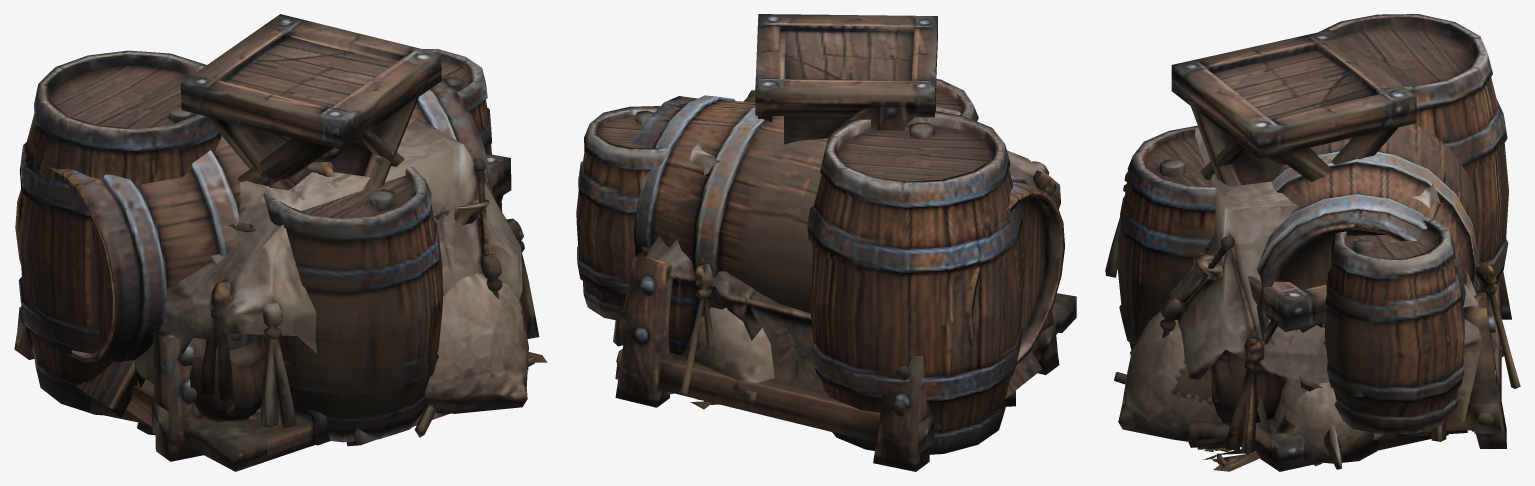
The model's file is kit-camp-storage.glb.
3 views of the same model, side by side, from view 1: azimuth 30°, elevation 25°; view 2: azimuth 150°, elevation 25°; view 3: azimuth 270°, elevation 25° (orthographic). The views are drawn at different scales.
Visible parts, largest first — view 1: storage_03_barrels, storage_07_tarp_pile, storage_01_crate_stack, storage_02_barrel_cradle, storage_05_sacks, storage_04_spilled_crate; view 2: storage_03_barrels, storage_02_barrel_cradle, storage_01_crate_stack, storage_07_tarp_pile, storage_05_sacks, storage_04_spilled_crate; view 3: storage_03_barrels, storage_01_crate_stack, storage_07_tarp_pile, storage_02_barrel_cradle, storage_05_sacks, storage_04_spilled_crate.
Part boxes in pixels (x1,y1,x2,y2): storage_03_barrels: (18,49,491,442); storage_07_tarp_pile: (134,117,539,471); storage_01_crate_stack: (89,14,511,422); storage_02_barrel_cradle: (14,76,492,461); storage_05_sacks: (137,136,528,435); storage_04_spilled_crate: (76,222,547,446); storage_03_barrels: (576,78,1024,454); storage_02_barrel_cradle: (615,95,1064,471); storage_01_crate_stack: (755,14,1015,406); storage_07_tarp_pile: (613,90,1076,429); storage_05_sacks: (681,307,774,405); storage_04_spilled_crate: (666,350,1042,409); storage_03_barrels: (1117,14,1508,434); storage_01_crate_stack: (1171,30,1448,471); storage_07_tarp_pile: (1105,128,1520,454); storage_02_barrel_cradle: (1114,124,1511,449); storage_05_sacks: (1118,249,1503,463); storage_04_spilled_crate: (1203,424,1473,471).
Bounding box in the file's own units: 2.28 × 1.54 × 1.9.
Materials: 1 (1 with a texture image).
